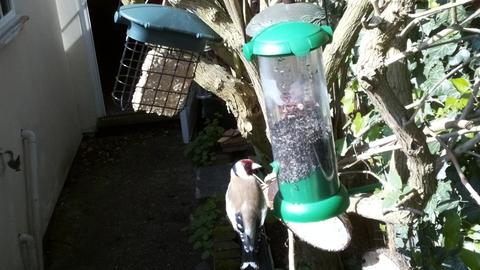goldfinch: (225, 158, 267, 270)
